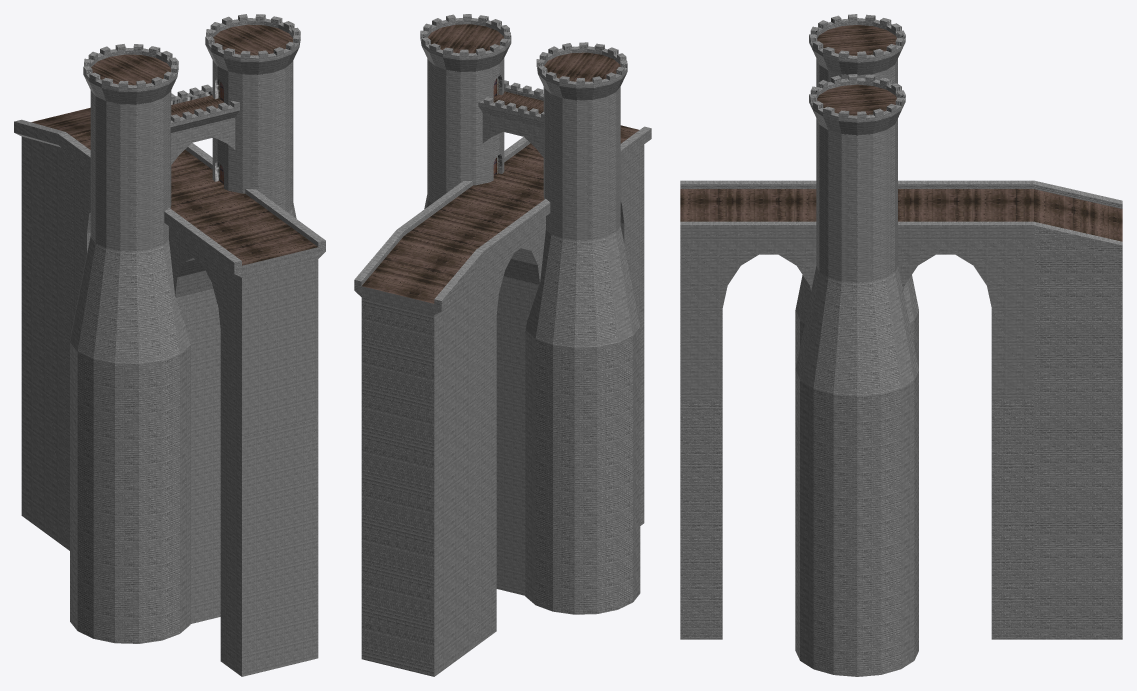
The model's file is BridgeBoard.fbx.
The picture shows the model from 3 angles, left to right: view 1: azimuth 30°, elevation 25°; view 2: azimuth 150°, elevation 25°; view 3: azimuth 270°, elevation 25°; orthographic projection. The views are drawn at different scales.
Visible parts, largest first — view 1: BridgeBoard; view 2: BridgeBoard; view 3: BridgeBoard.
Boxes of the visible parts, left/top/right/bottom form: BridgeBoard: left=14, top=14, right=325, bottom=676; BridgeBoard: left=354, top=14, right=651, bottom=676; BridgeBoard: left=680, top=14, right=1122, bottom=676.
Bounding box in the file's own units: 2998 × 6941 × 5000.
